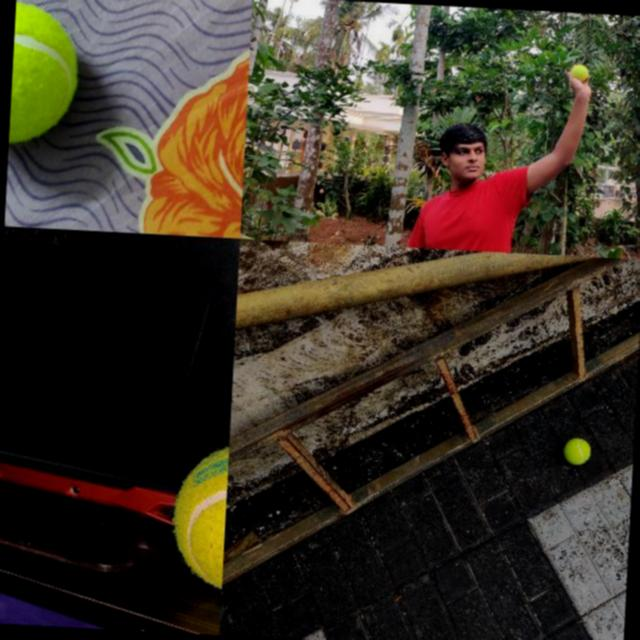tennis-ball: (9, 2, 83, 147), (166, 436, 228, 596), (562, 437, 591, 465), (571, 64, 589, 82)
